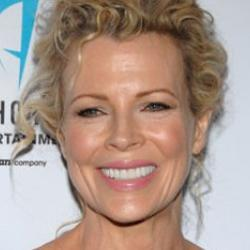face: (16, 1, 226, 237)
